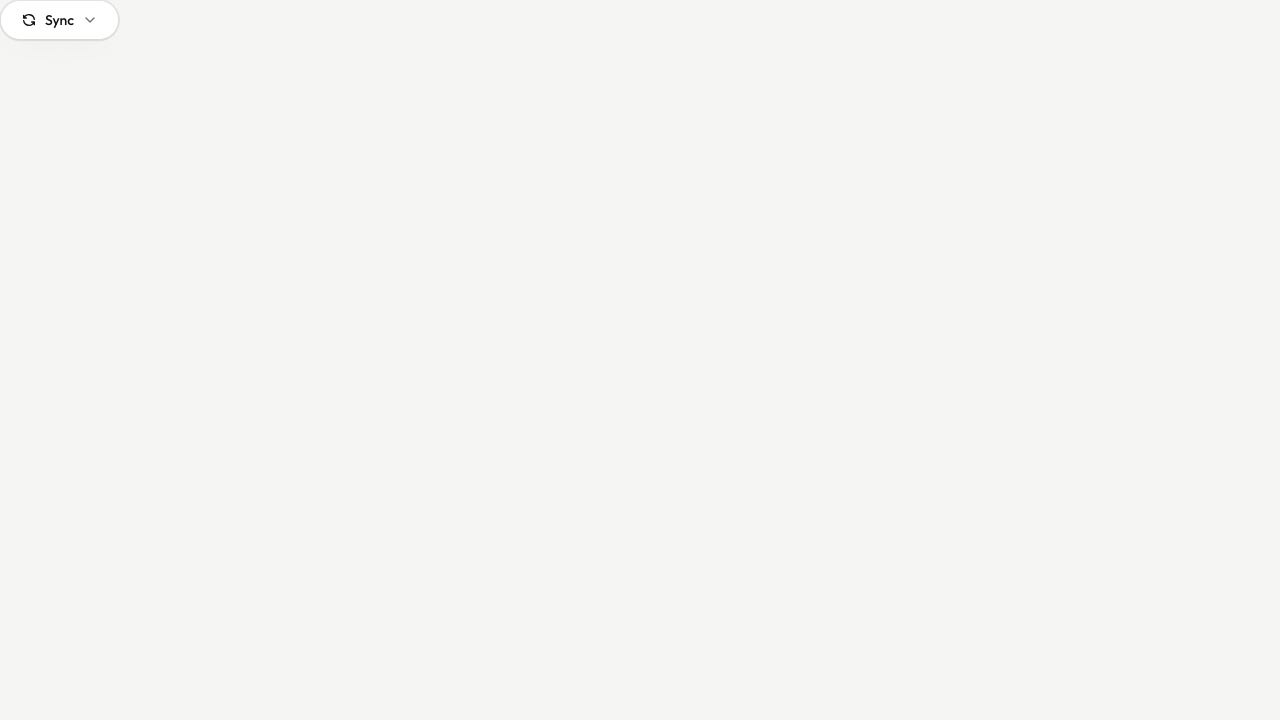
Scenario: SyncIntegrations › points to Settings when no integration is connected
Click the button with test id "sync-integrations-button" at (59, 20), box x1=0 y1=0 x2=119 y2=40
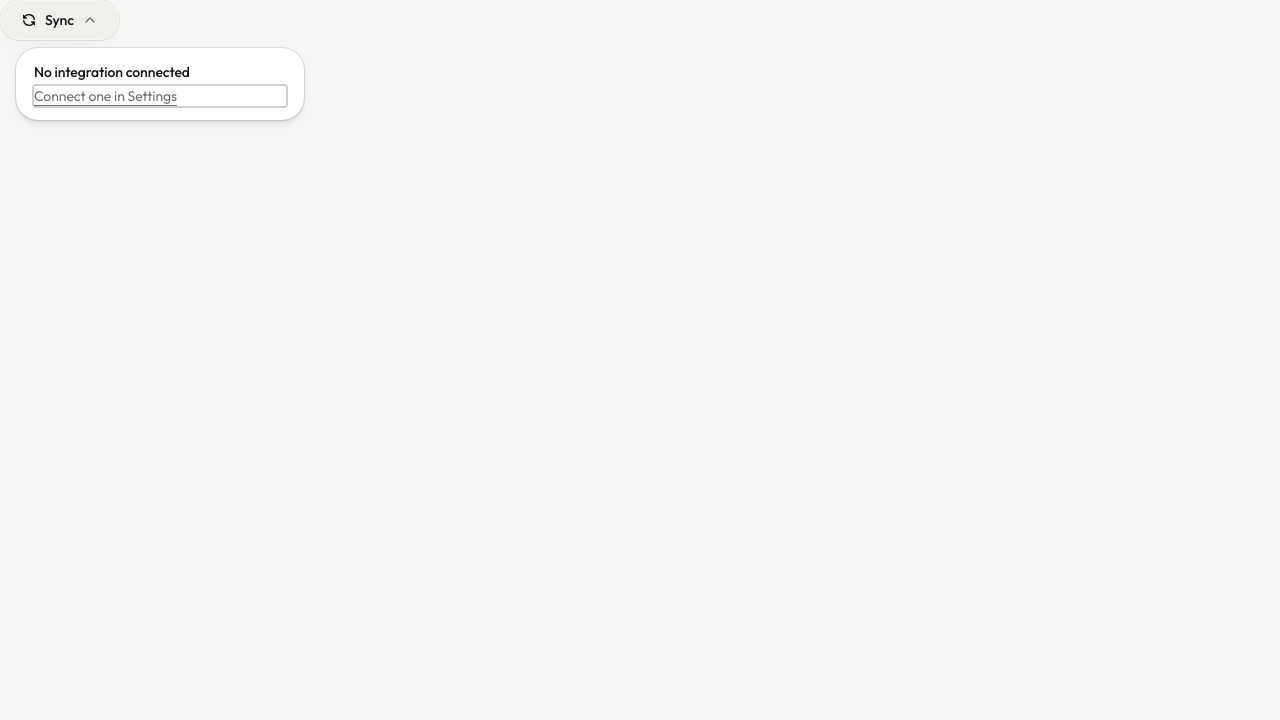
Check: the element with test id "sync-integrations-empty" shows "No integration connected", box x1=34 y1=63 x2=190 y2=81
